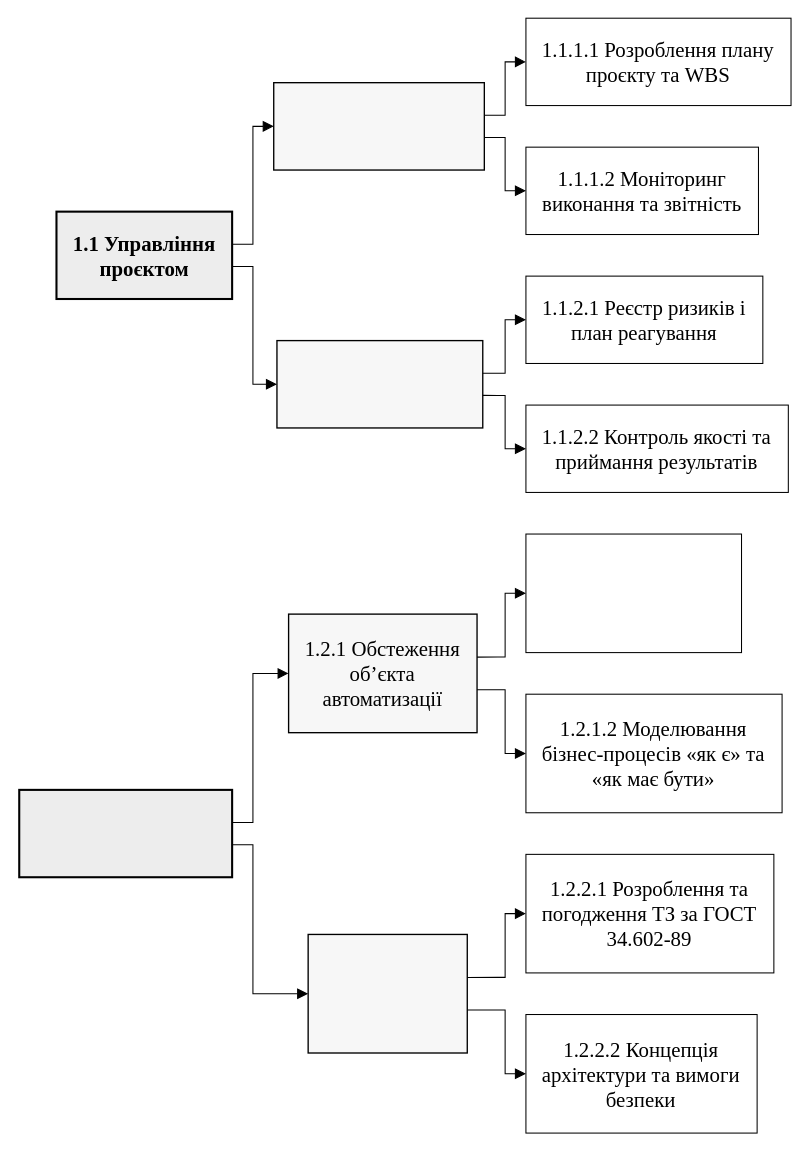
Some shapes in this 809 by 1151 pixel diagram are drawn without their labels. Here are the shapes that lost their labels. From the top down, the centre of each, then its label:
At [379,126]: "1.1.1 Планування та контроль".
At [379,383]: "1.1.2 Управління ризиками та якістю".
At [633,593]: "1.2.1.1 Обстеження діяльності центру та сенсорної мережі".
At [125,833]: "1.2 Обстеження та формування вимог".
At [387,993]: "1.2.2 Технічне завдання та концепція".
